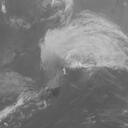cyclone: (41, 26, 105, 73)
